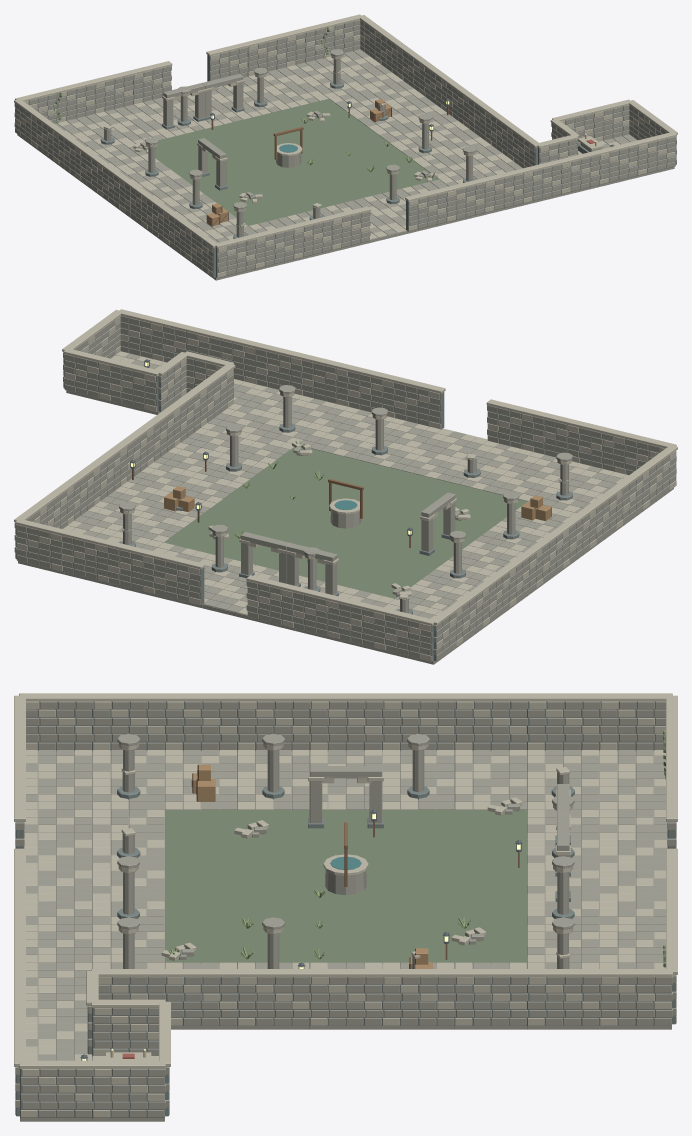
Rendered from tv_03_01_ruined_cloister.glb.
3 renders of one model, top to bottom at view 1: azimuth 30°, elevation 25°; view 2: azimuth 150°, elevation 25°; view 3: azimuth 270°, elevation 25°, orthographic. The views are drawn at different scales.
Parts seen in each view (by area): view 1: wall_0103, wall_0087, wall_0099, wall_0101, wall_0105, wall_0097, wall_0125, wall_0107, wall_0121, wall_0120, wall_0109, wall_0108 (+90 smaller); view 2: wall_0104, wall_0103, wall_0095, wall_0122, wall_0098, wall_0102, wall_0106, wall_0118, wall_0097, wall_0108, wall_0100, wall_0127 (+101 smaller); view 3: wall_0124, wall_0126, wall_0091, wall_0113, wall_0112, wall_0117, wall_0093, wall_0089, wall_0094, wall_0114, wall_0116, wall_0115 (+88 smaller).
Boxes of the visible parts, x1,y1,x2,y2 form: wall_0103: (405,187,447,231); wall_0087: (215,234,256,277); wall_0099: (291,216,332,259); wall_0101: (329,206,370,249); wall_0105: (444,178,485,222); wall_0097: (253,225,294,268); wall_0125: (635,132,676,175); wall_0107: (482,169,523,212); wall_0121: (597,141,638,184); wall_0120: (559,150,599,194); wall_0109: (520,160,561,203); wall_0108: (284,23,325,66); wall_0104: (154,552,205,605); wall_0103: (394,377,445,429); wall_0095: (385,609,435,661); wall_0122: (110,359,160,412); wall_0098: (339,597,389,650); wall_0102: (246,575,296,627); wall_0106: (108,541,158,594); wall_0118: (15,519,65,571); wall_0097: (579,422,629,474); wall_0108: (61,530,112,582); wall_0100: (292,586,342,639); wall_0127: (63,348,113,401); wall_0124: (19,1060,93,1117); wall_0126: (92,1060,165,1117); wall_0091: (309,693,383,750); wall_0113: (309,969,383,1025); wall_0112: (237,969,310,1025); wall_0117: (599,969,672,1025); wall_0093: (454,693,527,750); wall_0089: (164,693,238,750); wall_0094: (527,693,600,750); wall_0114: (381,969,455,1025); wall_0116: (526,969,600,1025); wall_0115: (454,969,527,1025).
Size of the model in its own units: 48.67 by 3.79 by 36.67.
